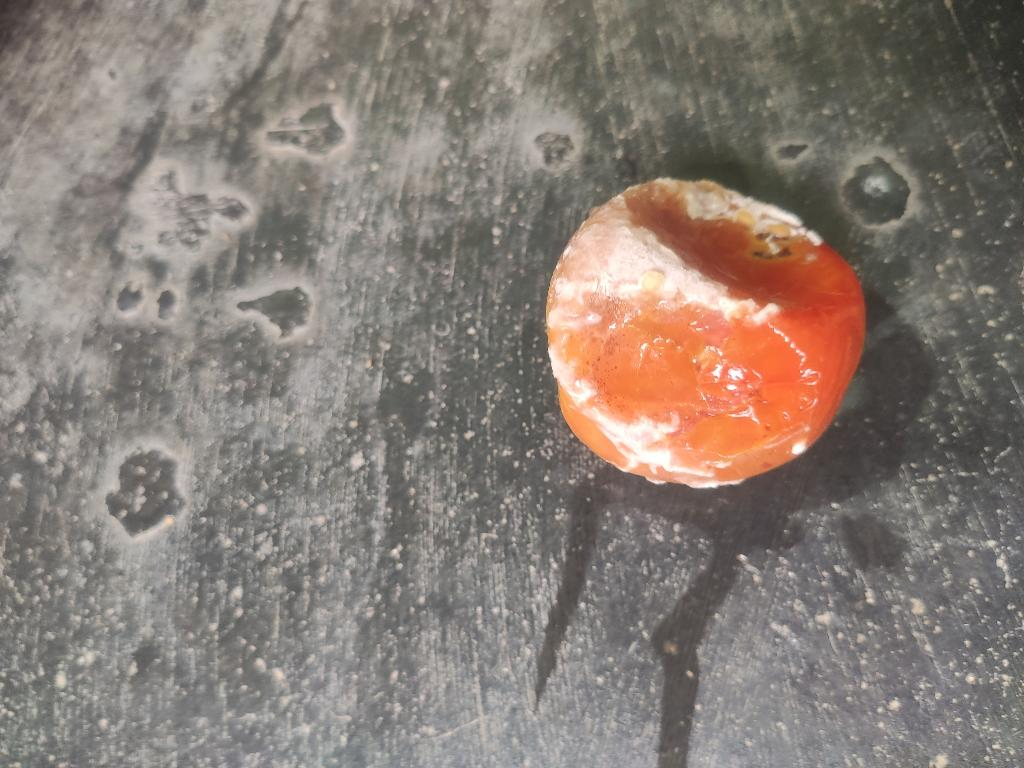rot_mold_decay: (547, 192, 779, 340), (549, 340, 742, 487), (654, 179, 823, 245)
tomato: (547, 179, 865, 487)
